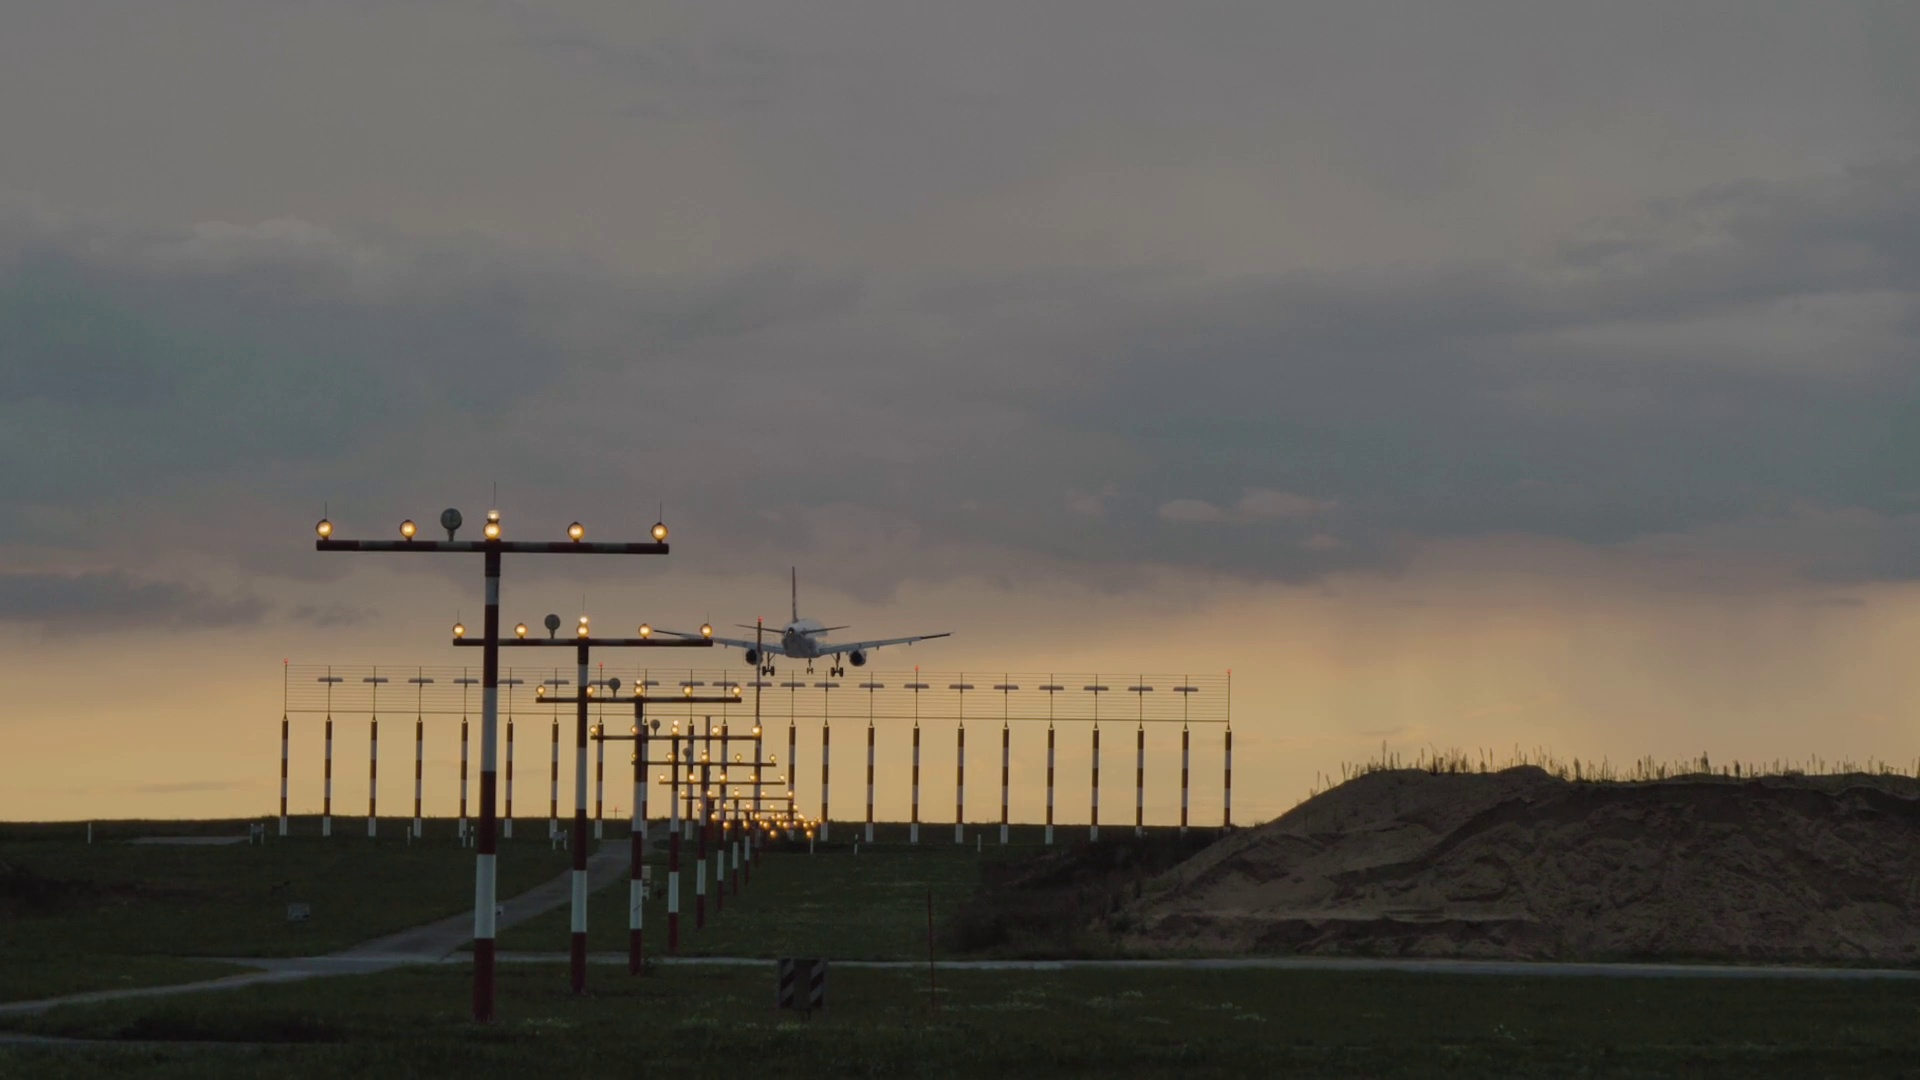plane: (644, 568, 951, 679)
